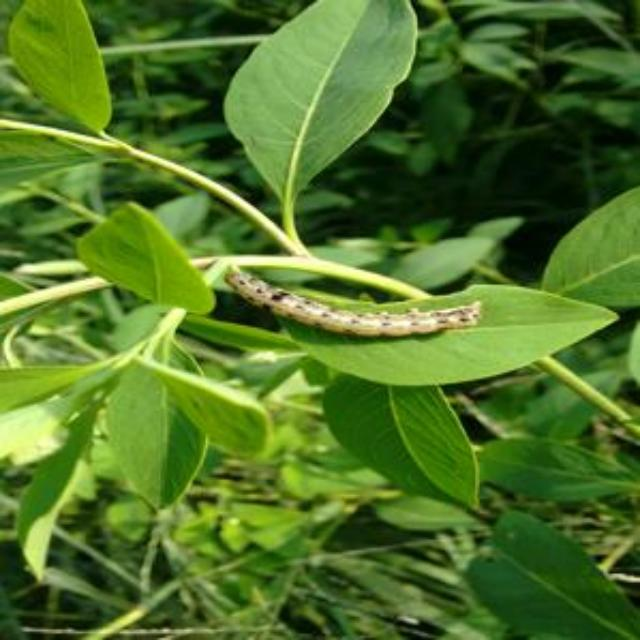Tobacco cutworm: (198, 243, 500, 393)
